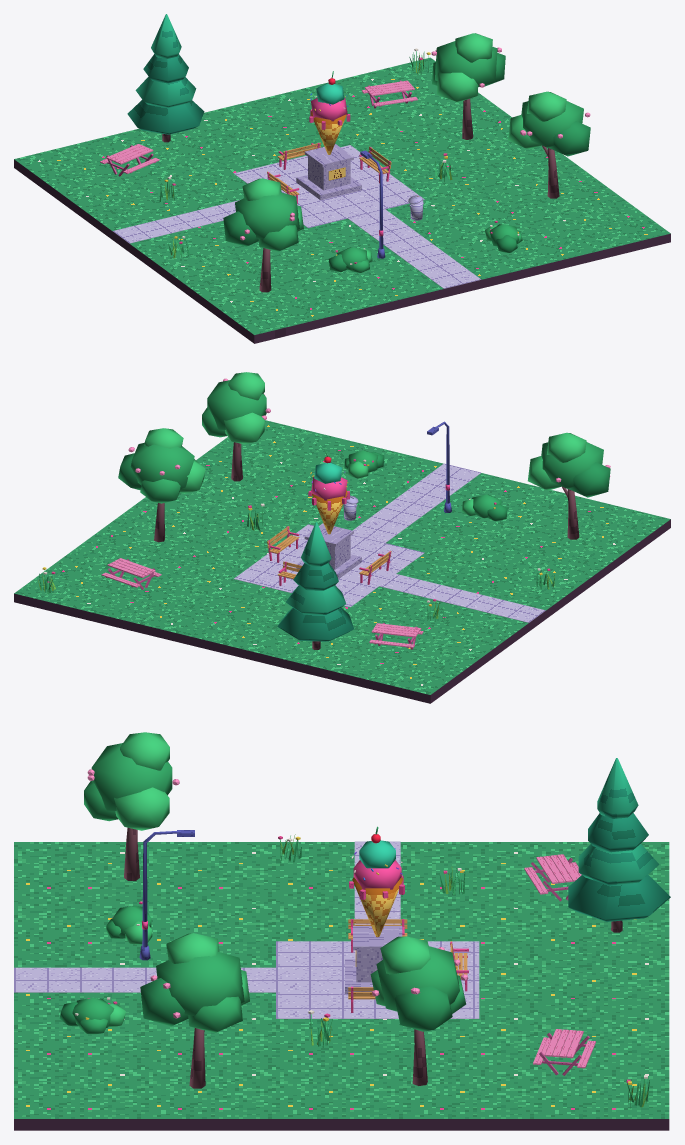
File: Block Park.fbx
The picture shows the model from 3 angles, top to bottom: view 1: azimuth 30°, elevation 25°; view 2: azimuth 150°, elevation 25°; view 3: azimuth 270°, elevation 25°; orthographic projection. The views are drawn at different scales.
Parts seen in each view (by area): view 1: Block Park mesh; view 2: Block Park mesh; view 3: Block Park mesh.
Boxes of the visible parts, x1=… form: Block Park mesh: x1=14, y1=14, x2=670, y2=343; Block Park mesh: x1=14, y1=372, x2=670, y2=703; Block Park mesh: x1=14, y1=732, x2=670, y2=1130.
Bounding box in the file's own units: 20 × 6.2 × 20.05.
41 materials, 41 textured.
